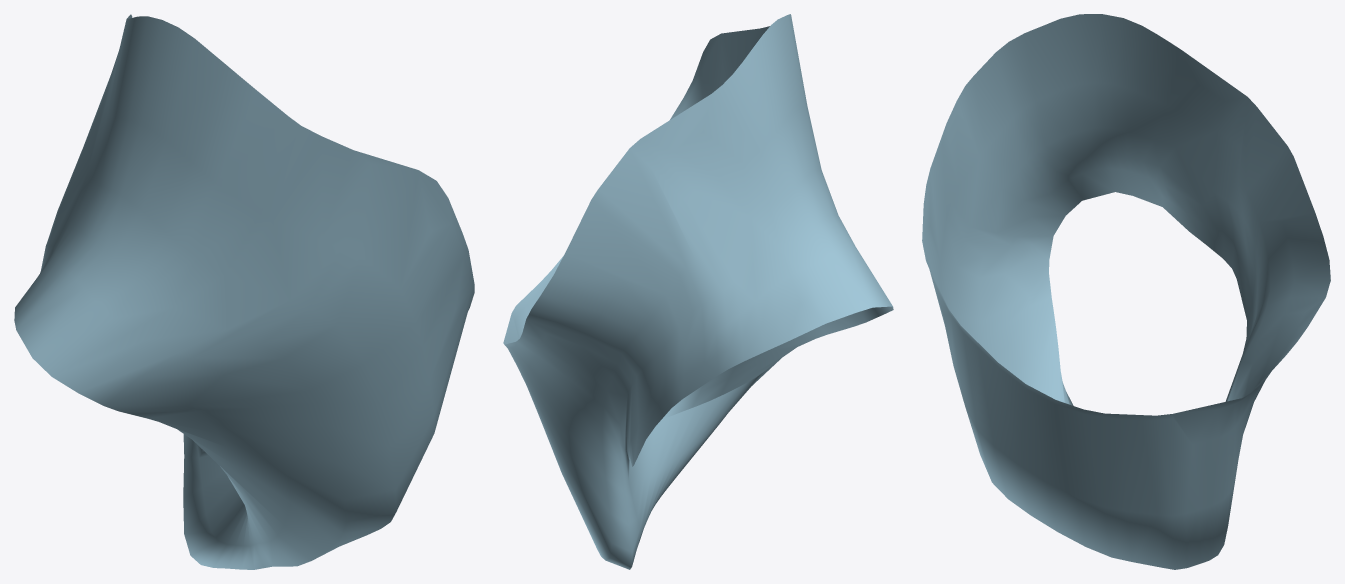
The model's file is articulacoes-articular-capsule-of-hip-joint-r.glb.
3 views of the same model, side by side, from view 1: azimuth 30°, elevation 25°; view 2: azimuth 150°, elevation 25°; view 3: azimuth 270°, elevation 25° (orthographic). The views are drawn at different scales.
Parts seen in each view (by area): view 1: Articular capsule of hip joint.r; view 2: Articular capsule of hip joint.r; view 3: Articular capsule of hip joint.r.
Boxes of the visible parts, x1,y1,x2,y2 form: Articular capsule of hip joint.r: [14, 14, 474, 569]; Articular capsule of hip joint.r: [503, 14, 893, 569]; Articular capsule of hip joint.r: [922, 14, 1330, 569].
Bounding box in the file's own units: 0.054 × 0.0787 × 0.0573.
